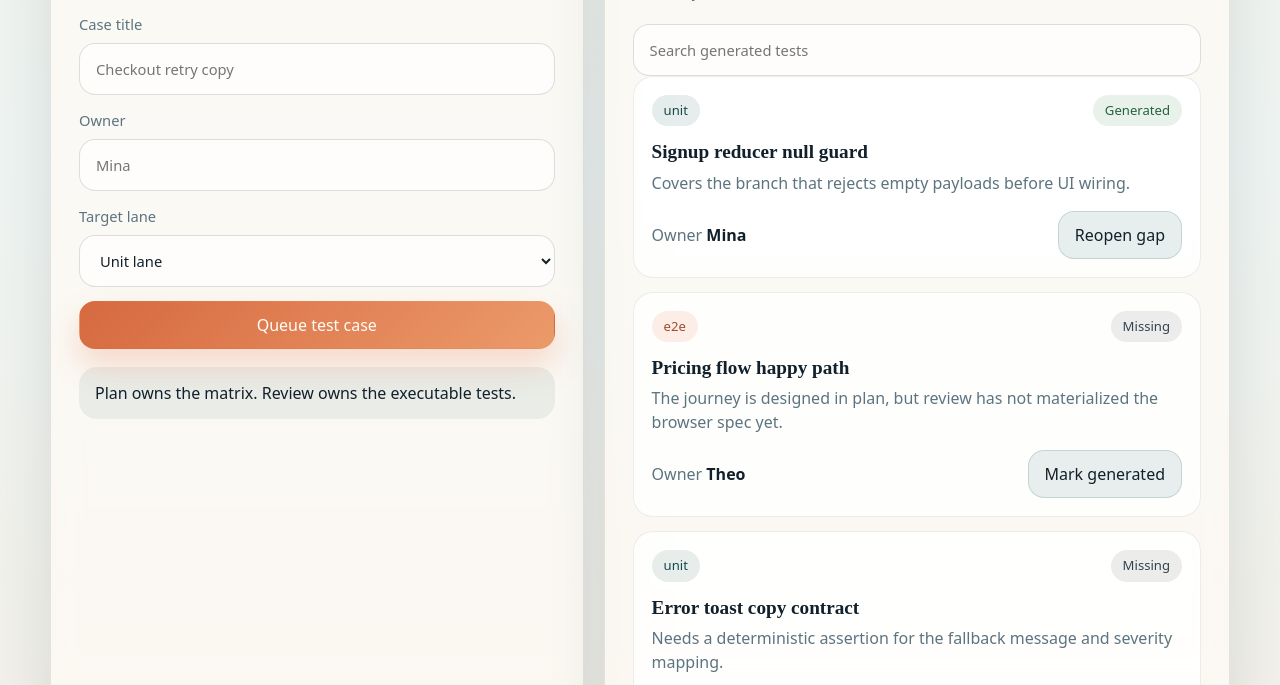
Scenario: App › shows validation feedback and empty-state search results
(page scrolled)
Click the button "Queue test case": [317, 326] box [79,302,555,350]
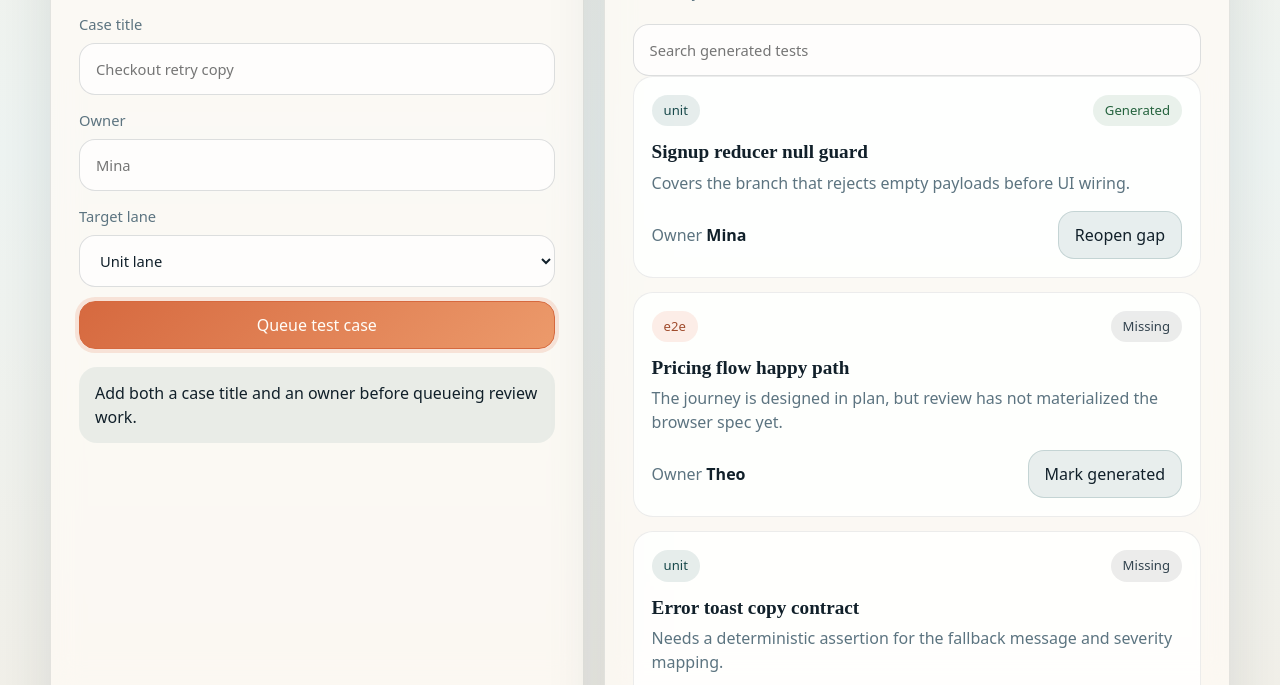
Expected: the message reads "Add both a case title and an owner before queueing review work.", [95,382,537,428]
In the field labelled "Search by title, owner, or lane": [917, 50] box [633,24,1201,76], type "zzzz"
(page scrolled)
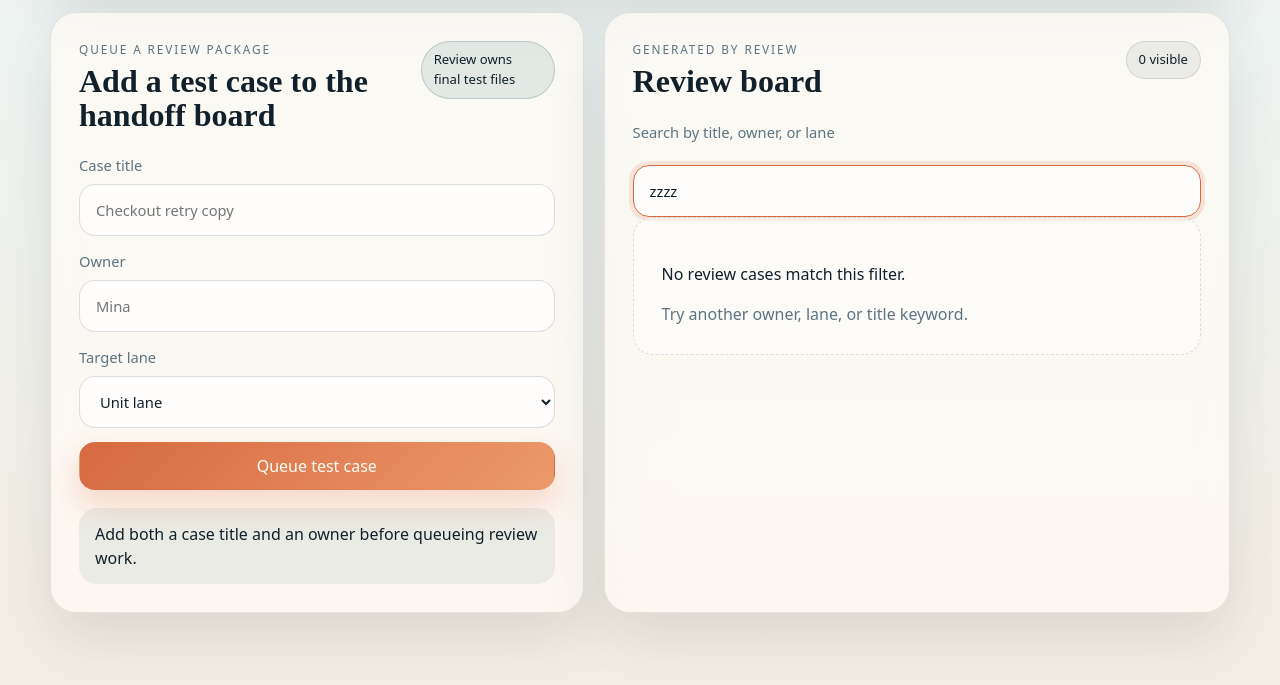
Expected: the text "No review cases match this filter." is shown, [662,263,905,285]
Expected: the text "Try another owner, lane, or title keyword." is shown, [662,303,968,325]
